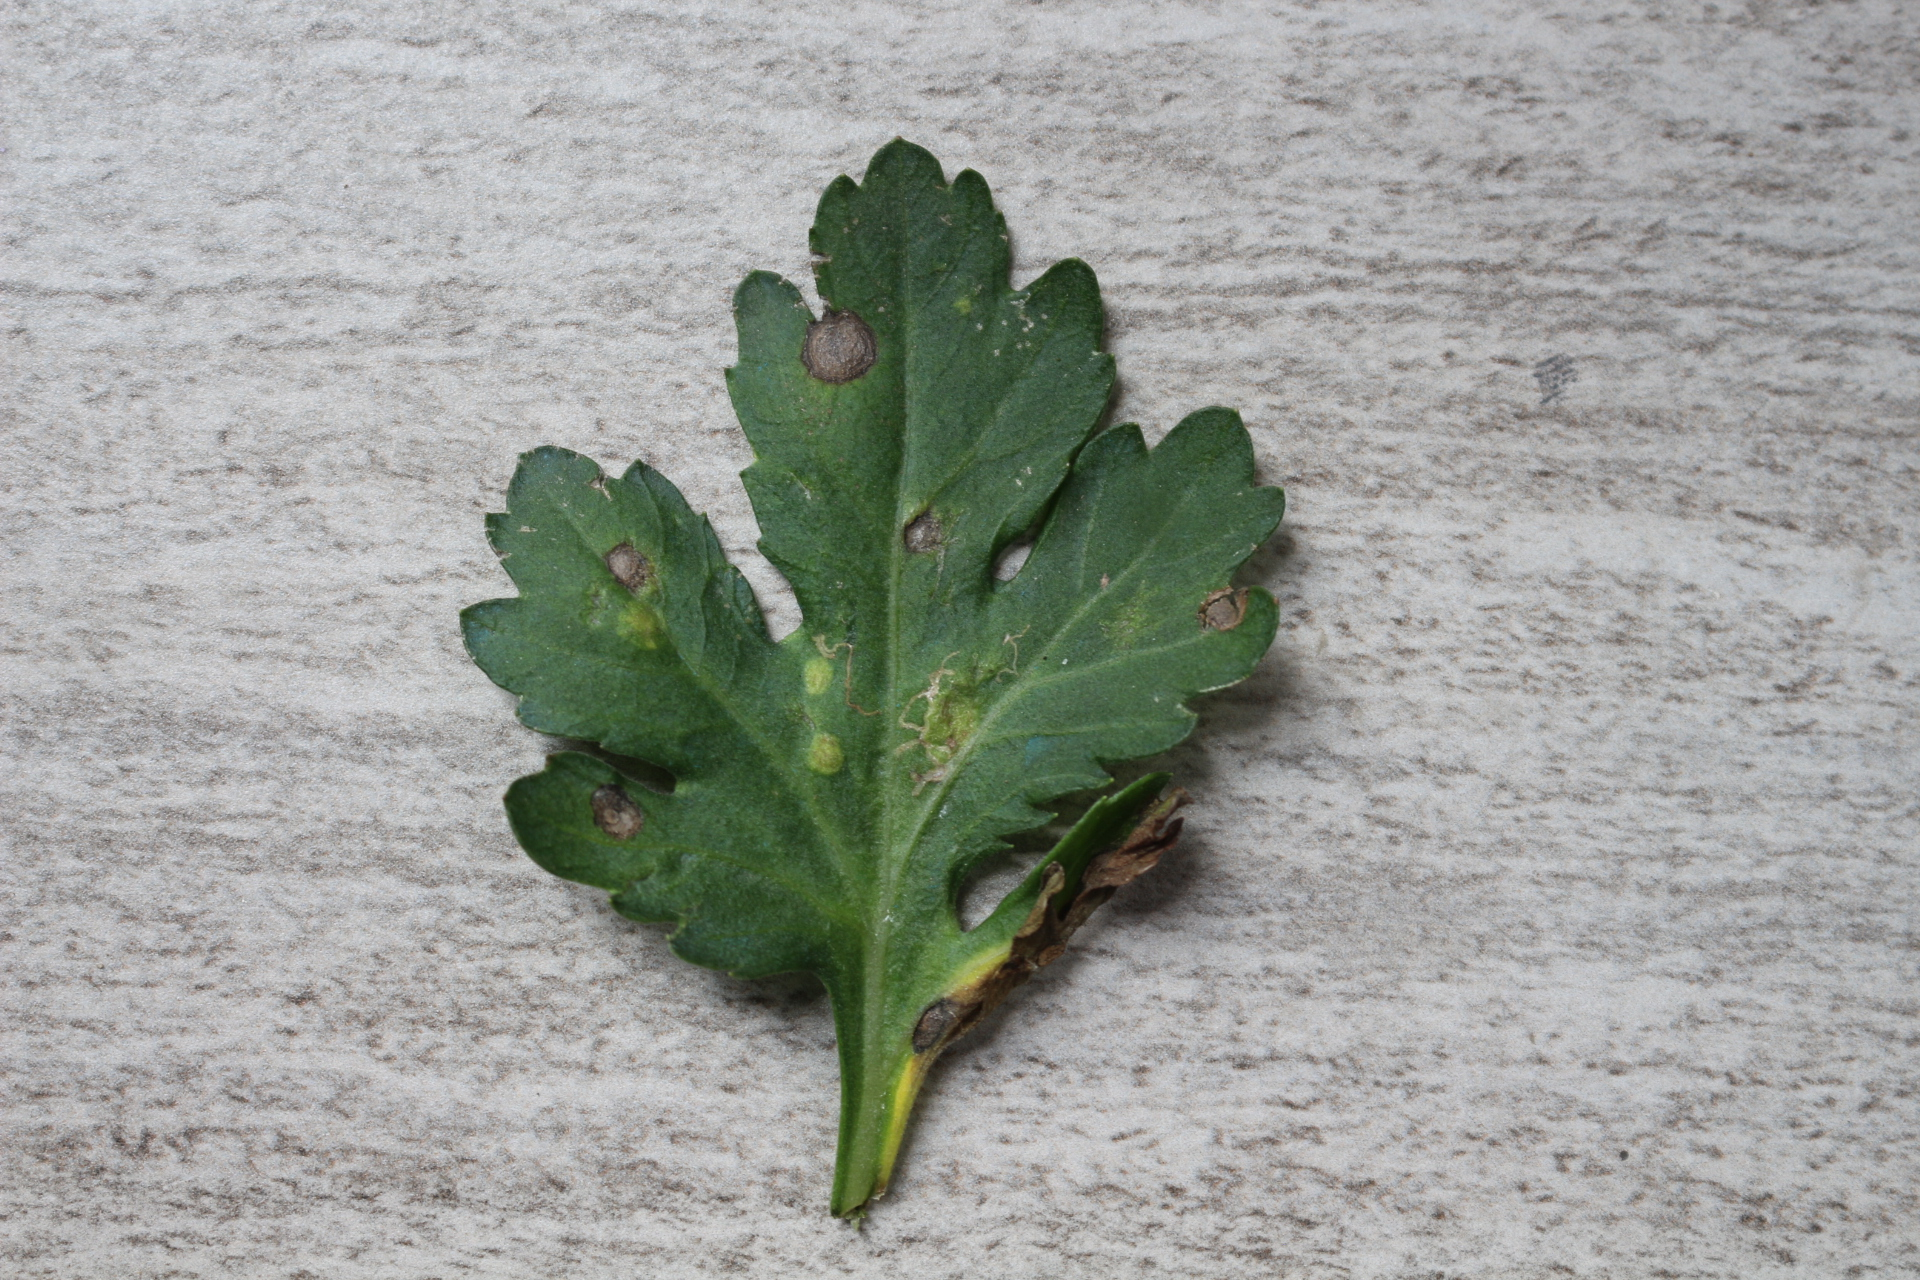namden: (794, 304, 887, 386), (600, 540, 669, 596), (581, 786, 651, 837)
namsung: (601, 603, 671, 653), (799, 731, 850, 779), (800, 656, 837, 699)
